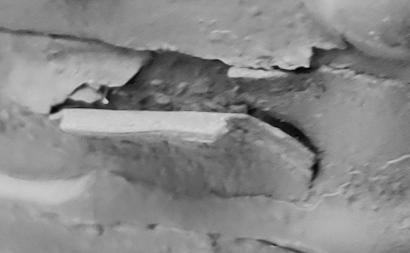crack: (1, 1, 410, 253)
